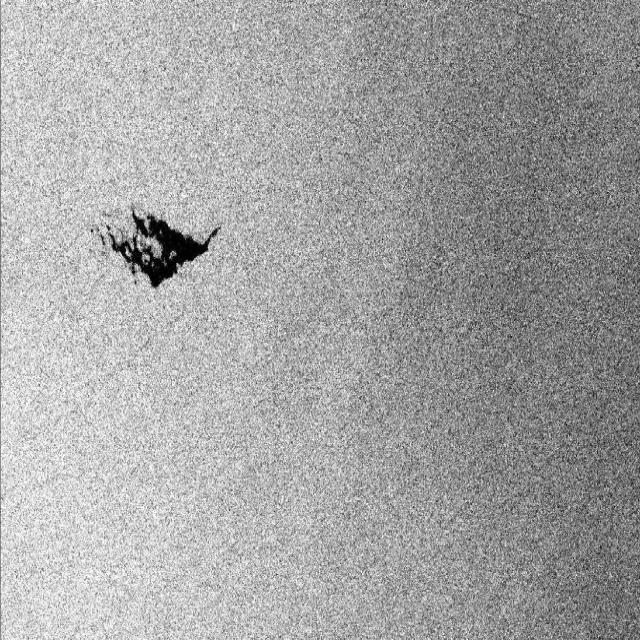oil-spill: (90, 194, 222, 297)
